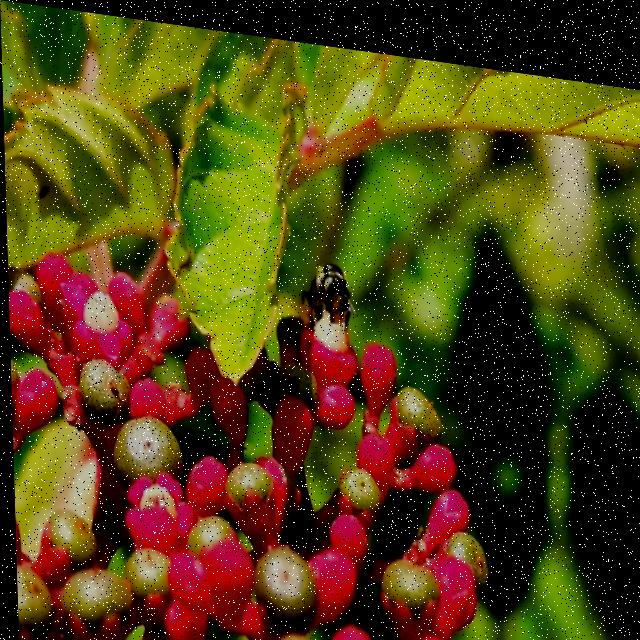Braunsapis: (298, 240, 368, 337)
